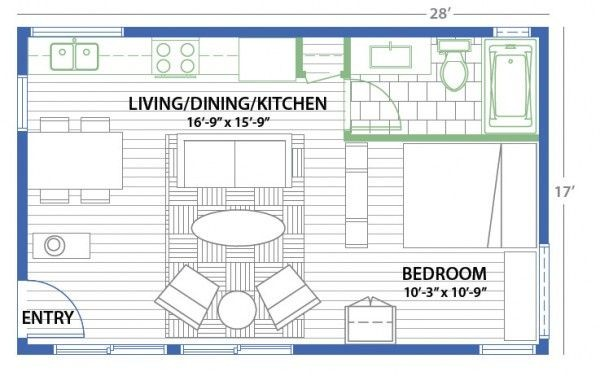door: (6, 275, 93, 341), (347, 74, 406, 136)
room: (9, 23, 551, 361)
wall: (120, 22, 495, 40), (525, 25, 554, 248), (285, 340, 486, 361), (12, 131, 32, 281), (10, 26, 30, 75)
window: (182, 333, 291, 360), (28, 20, 124, 42), (532, 246, 550, 339), (52, 342, 167, 355), (485, 339, 540, 360), (12, 77, 33, 128)
